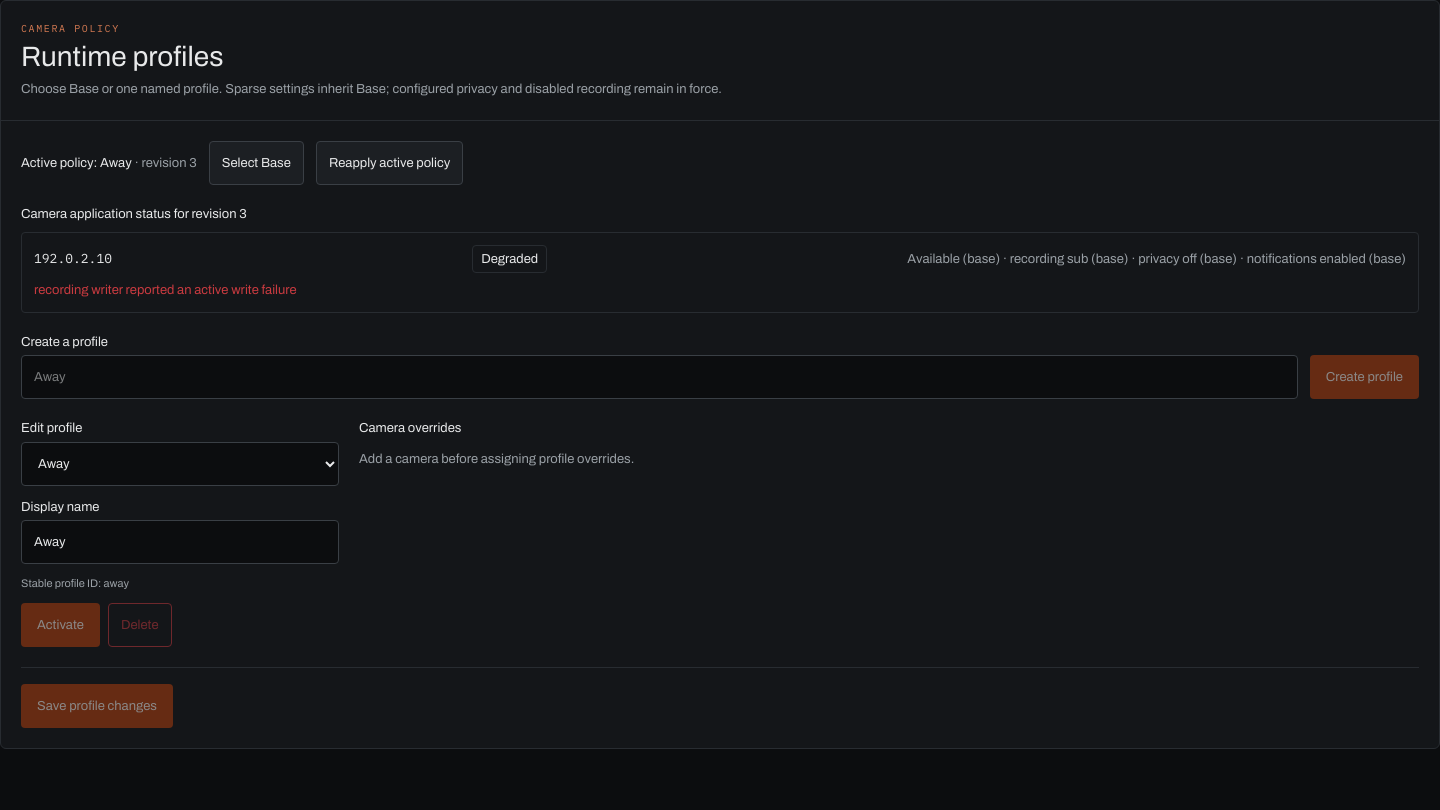
RuntimeProfilesSection › conflicts with another editor without losing the draft and reloads only after explicit discard
Replace the text in the field labelled "Display name" with "My unsaved label" at (180, 542), box [21,520,339,564]
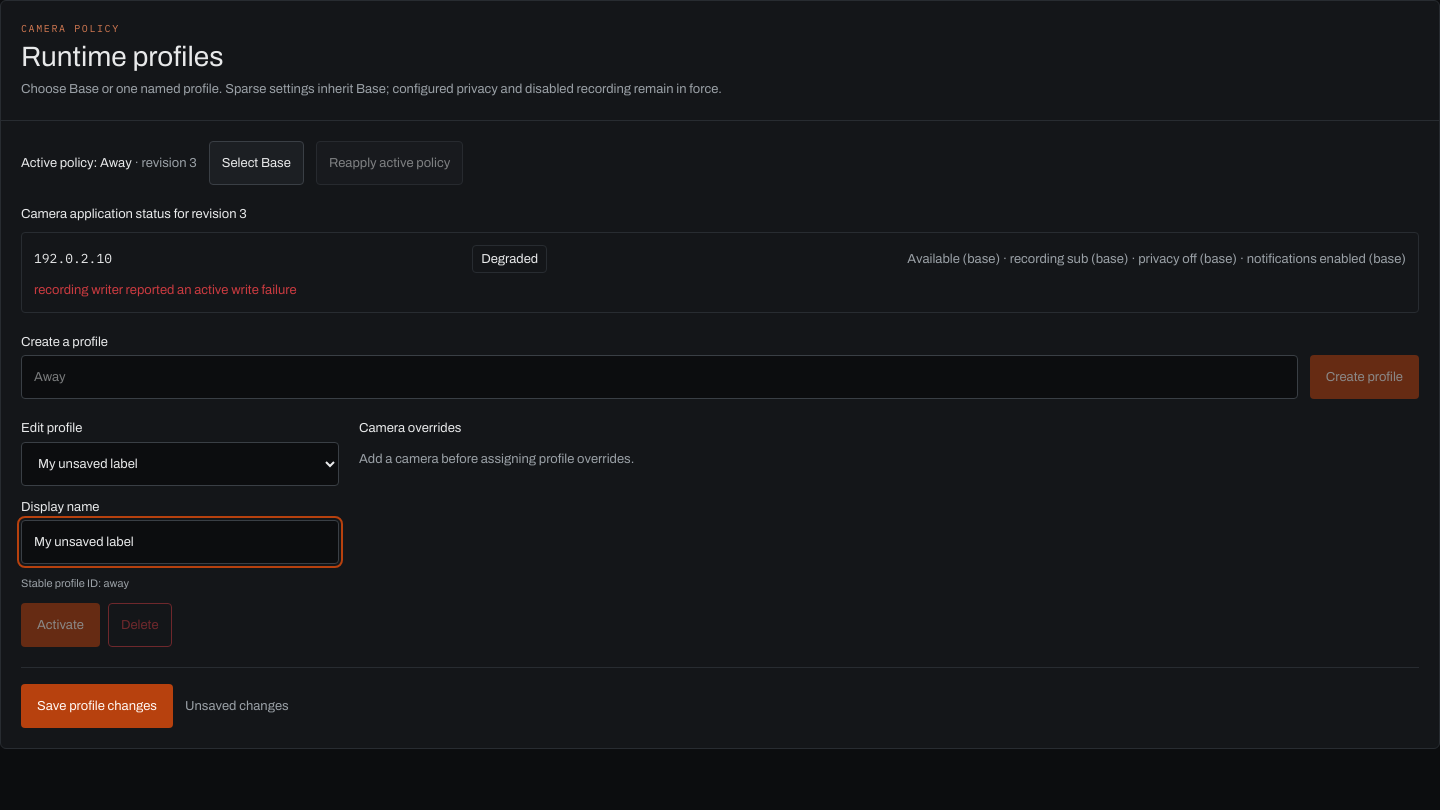
Click the button "Save profile changes" at (97, 706), box [21,684,173,728]
(page scrolled)
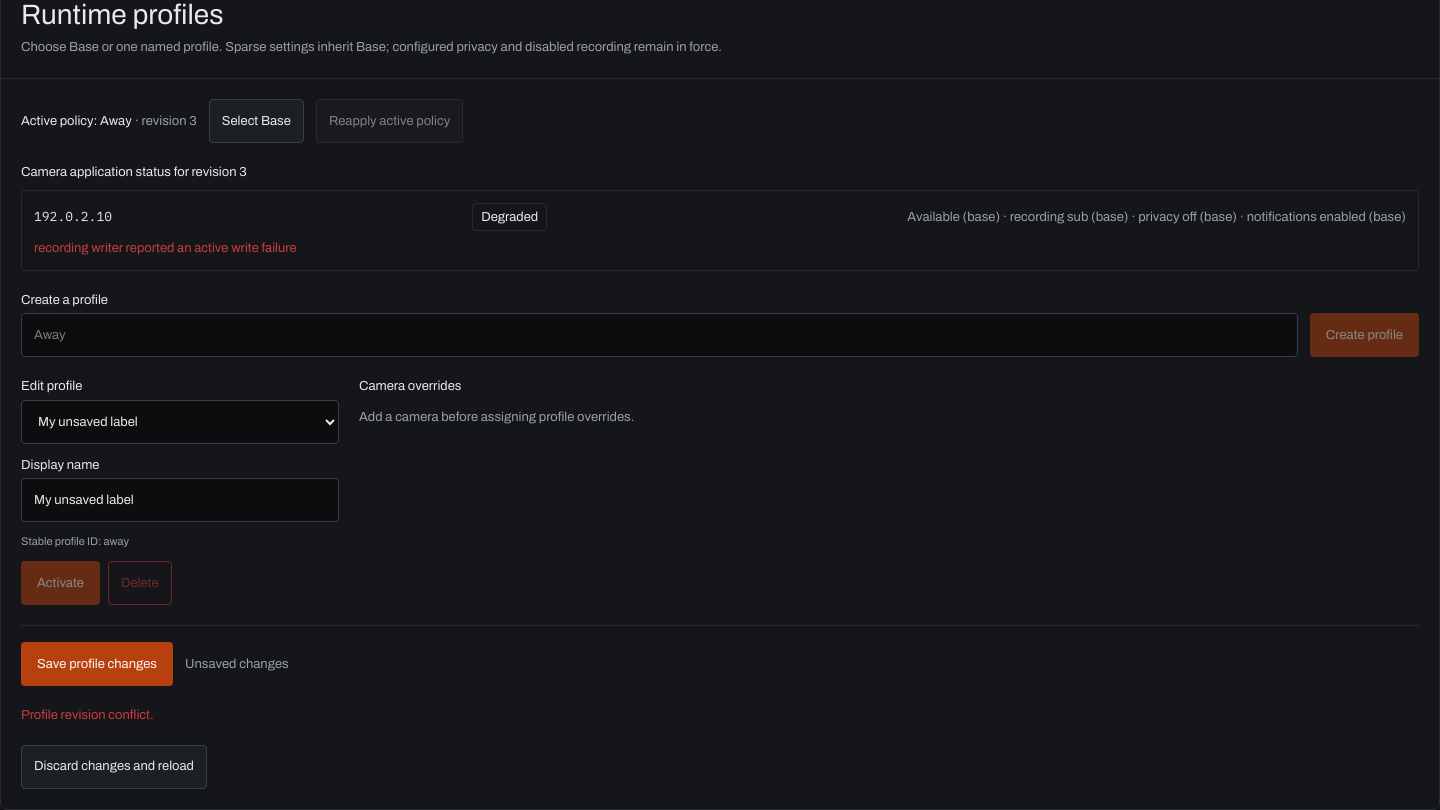
Expected: the message reads "Profile revision conflict.", [21,708,154,722]
Click the button "Discard changes and reload" at (114, 767), box [21,745,207,789]
(page scrolled)
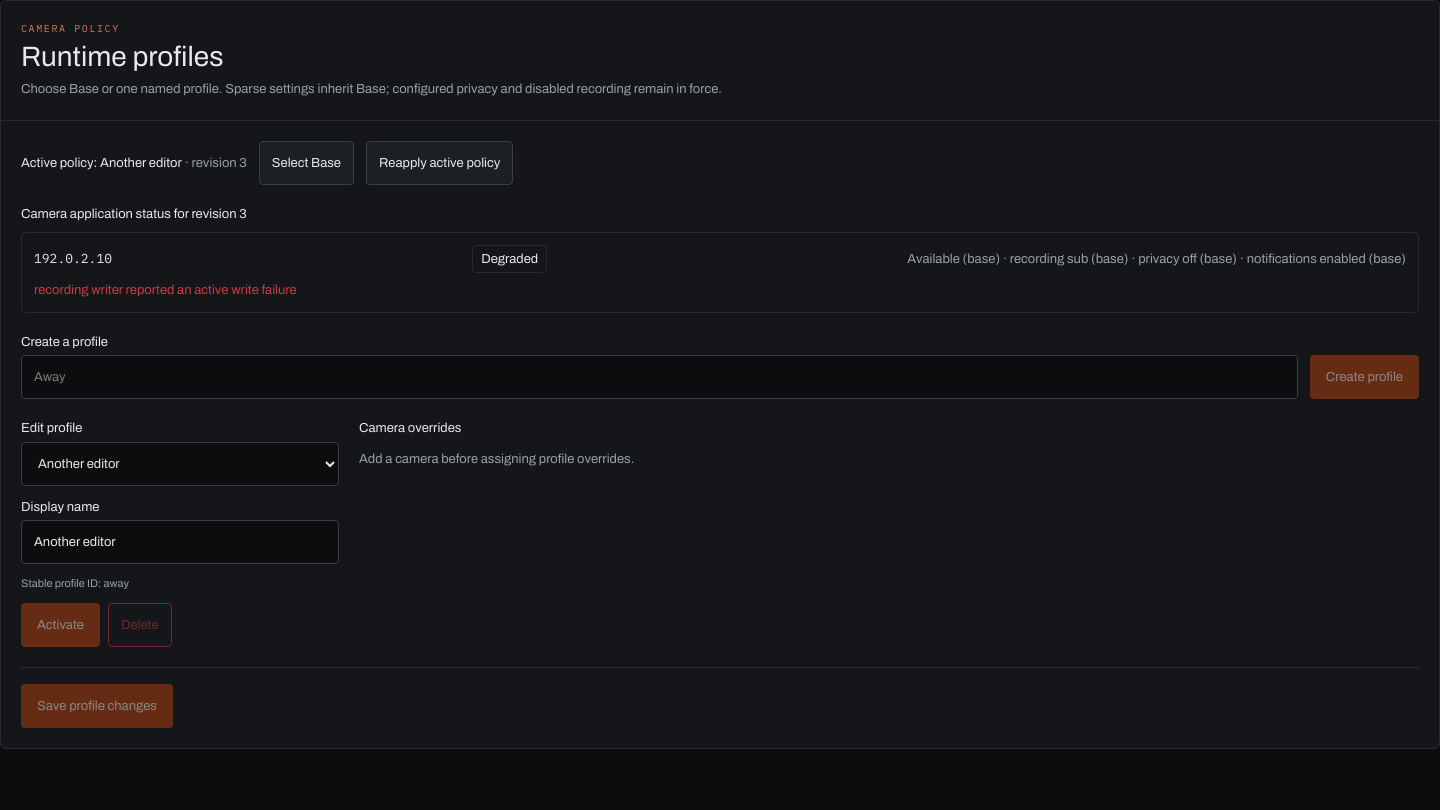
Expected: the field labelled "Display name" holds "Another editor", [21,520,339,564]
